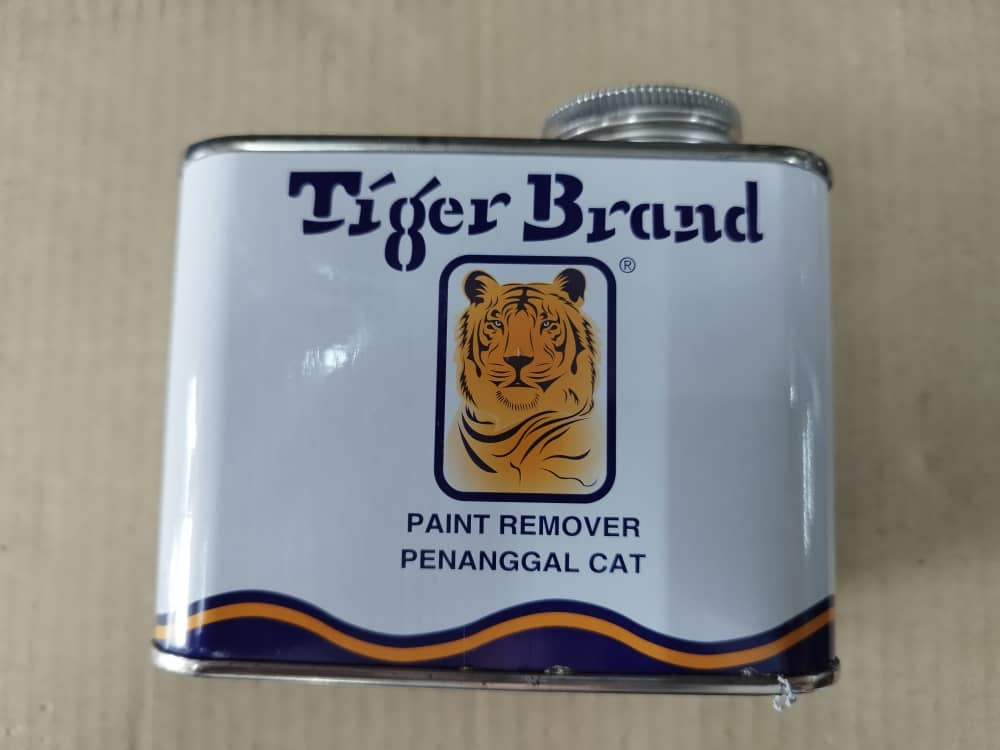sku_glue: (142, 90, 875, 714)
